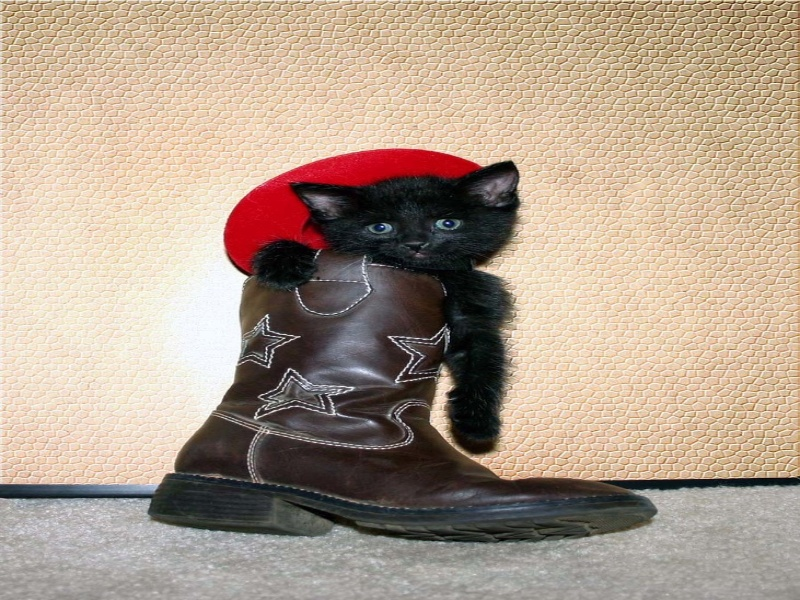cat: (244, 160, 556, 268)
